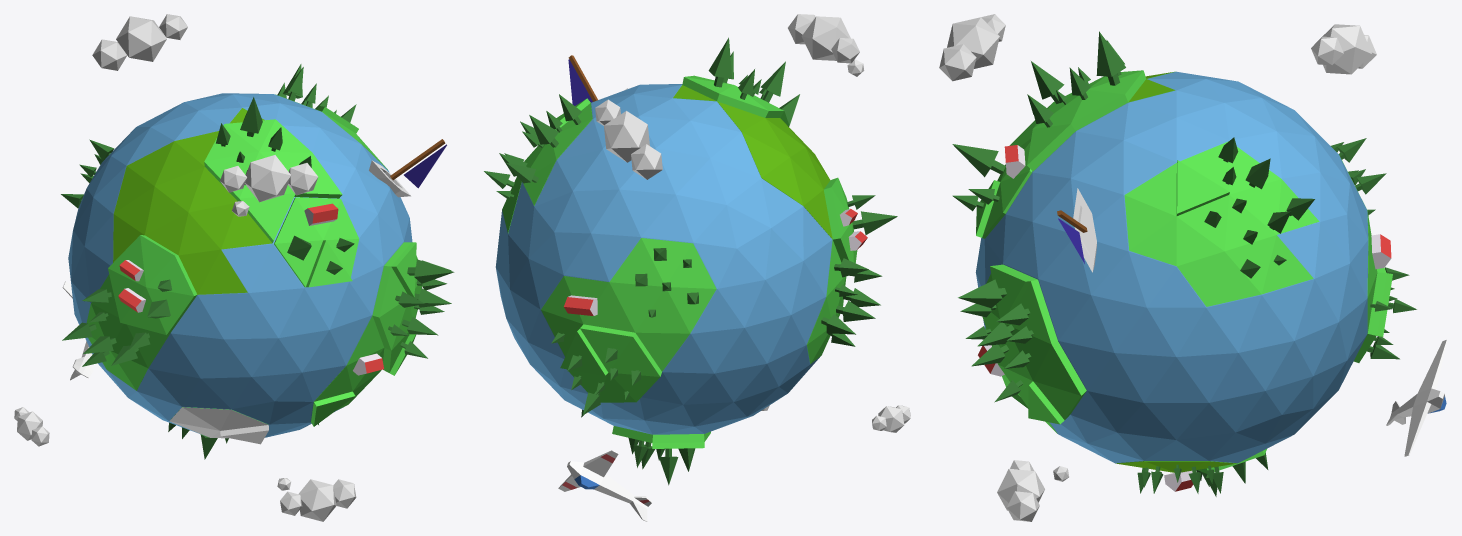
The model's file is earth_4.glb.
3 renders of one model, left to right at view 1: azimuth 30°, elevation 25°; view 2: azimuth 150°, elevation 25°; view 3: azimuth 270°, elevation 25°, orthographic. The views are drawn at different scales.
Visible parts, largest first — view 1: Agua.001, Tierra, Icosphere.002, Icosphere.003, Icosphere.004, Barco.001, Icosphere.015, Plane.058, Plane.056, Avión, Plane.087; view 2: Agua.001, Tierra, Icosphere.002, Icosphere.003, Avión, Icosphere.015, Barco.001, Plane.087, Plane.053, Plane.127, Plane.145; view 3: Agua.001, Tierra, Icosphere.003, Icosphere.002, Avión, Icosphere.004, Barco.001, Plane.087, Plane.121, Plane.058, Plane.145, Plane.053.
Boxes of the visible parts, <box> form: Agua.001: <box>68,93,412,437</box>; Tierra: <box>86,94,421,444</box>; Icosphere.002: <box>92,14,187,70</box>; Icosphere.003: <box>220,155,318,202</box>; Icosphere.004: <box>280,479,356,521</box>; Barco.001: <box>369,139,446,197</box>; Icosphere.015: <box>14,407,49,446</box>; Plane.058: <box>407,259,454,283</box>; Plane.056: <box>304,203,338,225</box>; Avión: <box>62,281,93,380</box>; Plane.087: <box>240,97,262,136</box>; Agua.001: <box>495,84,832,434</box>; Tierra: <box>502,75,857,448</box>; Icosphere.002: <box>595,99,662,179</box>; Icosphere.003: <box>788,14,859,63</box>; Avión: <box>558,450,652,521</box>; Icosphere.015: <box>872,405,910,432</box>; Barco.001: <box>568,55,627,105</box>; Plane.087: <box>708,37,732,87</box>; Plane.053: <box>564,295,597,315</box>; Plane.127: <box>852,211,897,234</box>; Plane.145: <box>760,61,785,102</box>; Agua.001: <box>975,71,1368,463</box>; Tierra: <box>976,70,1392,473</box>; Icosphere.003: <box>939,14,1005,81</box>; Icosphere.002: <box>1311,24,1376,74</box>; Avión: <box>1386,339,1447,456</box>; Icosphere.004: <box>997,460,1044,521</box>; Barco.001: <box>1057,188,1096,272</box>; Plane.087: <box>1096,31,1125,85</box>; Plane.121: <box>952,144,1005,177</box>; Plane.058: <box>958,279,1006,308</box>; Plane.145: <box>1031,61,1064,103</box>; Plane.053: <box>1371,234,1391,269</box>.
Bounding box in the file's own units: 2.59 × 2.65 × 2.61.
